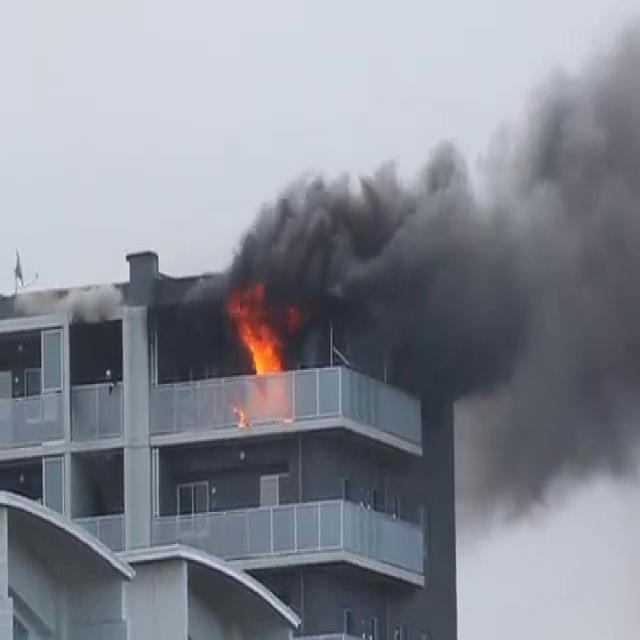Fire: (224, 285, 288, 385)
Smoke: (230, 37, 640, 510)
